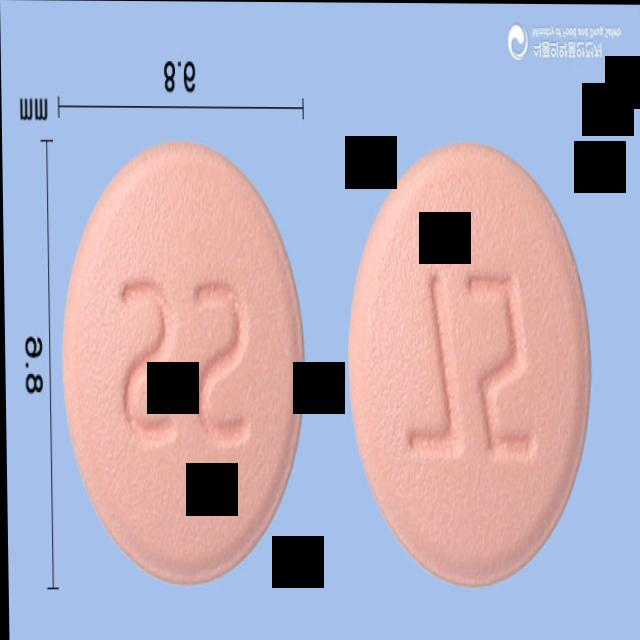Clozex: (343, 140, 593, 592), (58, 140, 305, 591)
